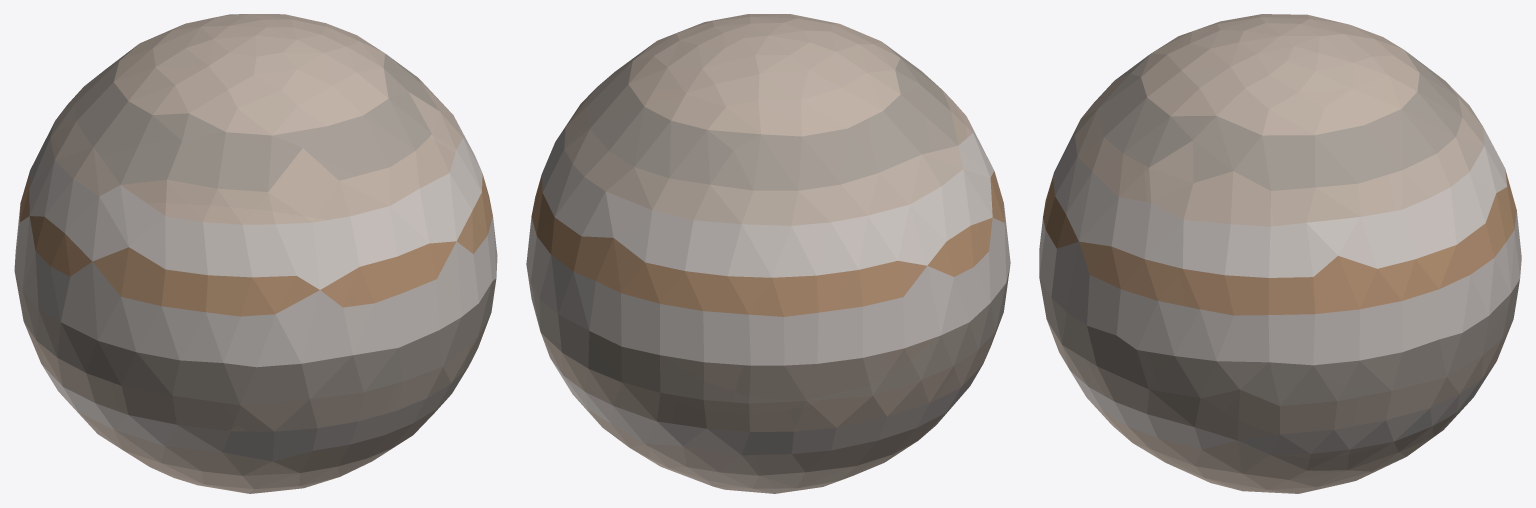
Rendered from jupiter.glb.
3 views of the same model, side by side, from view 1: azimuth 30°, elevation 25°; view 2: azimuth 150°, elevation 25°; view 3: azimuth 270°, elevation 25° (orthographic).
Parts seen in each view (by area): view 1: node-0; view 2: node-0; view 3: node-0.
Part boxes in pixels (bbox=[...]): node-0: bbox=[14, 14, 497, 493]; node-0: bbox=[526, 14, 1010, 493]; node-0: bbox=[1039, 14, 1521, 493].
Bounding box in the file's own units: 17 × 16.97 × 16.98.
Materials: 1 (1 with a texture image).
